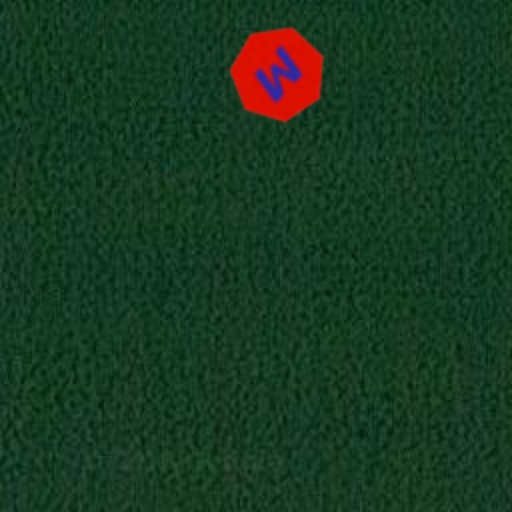heptagon: (208, 4, 348, 144)
